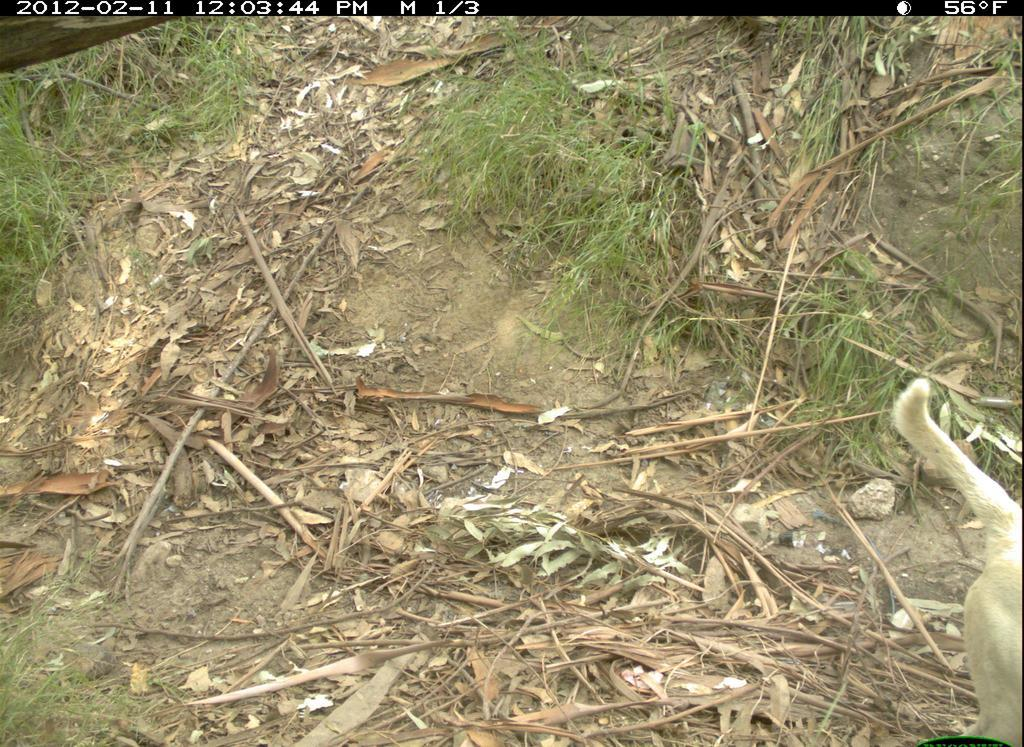dog: (886, 373, 1023, 747)
